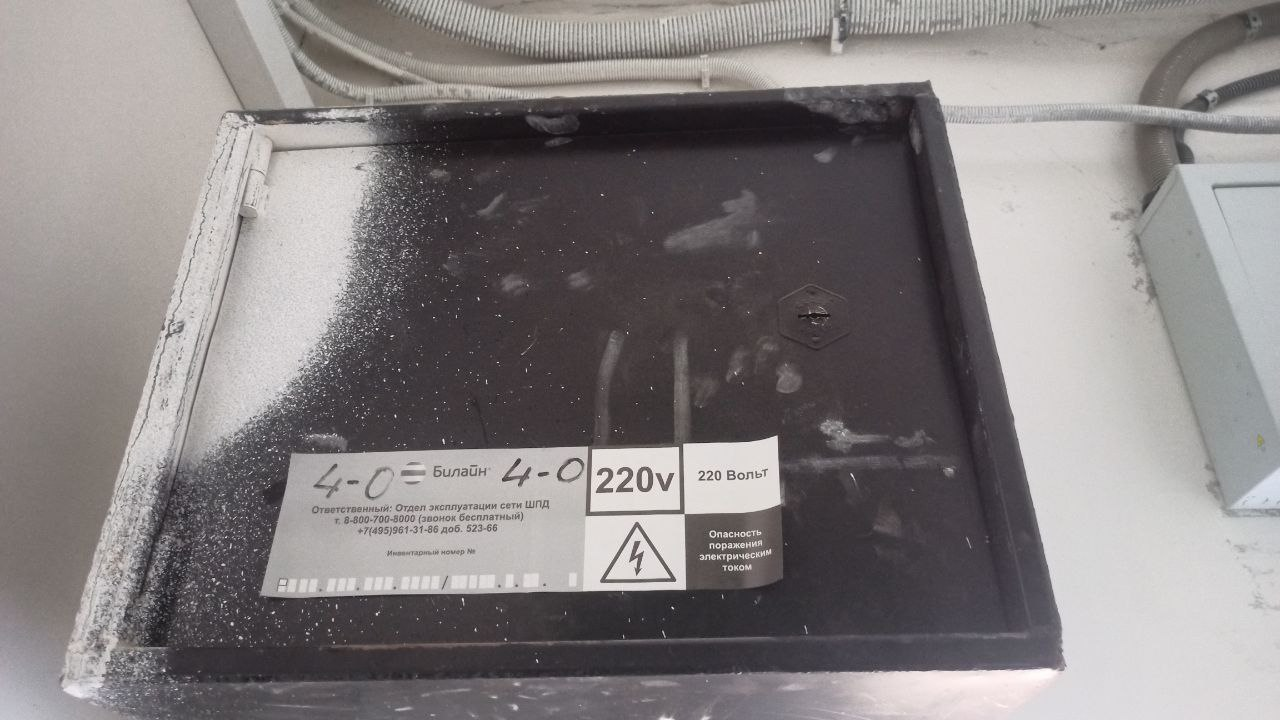shta-9m: (48, 68, 1081, 711)
